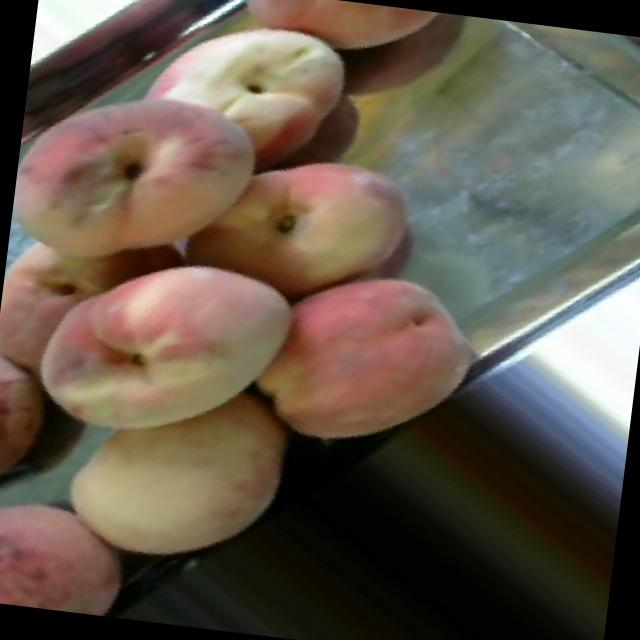Fruit: (0, 211, 324, 489), (2, 46, 287, 316), (26, 348, 306, 609), (230, 235, 497, 472), (172, 115, 442, 338), (151, 0, 382, 174), (206, 0, 477, 93)
